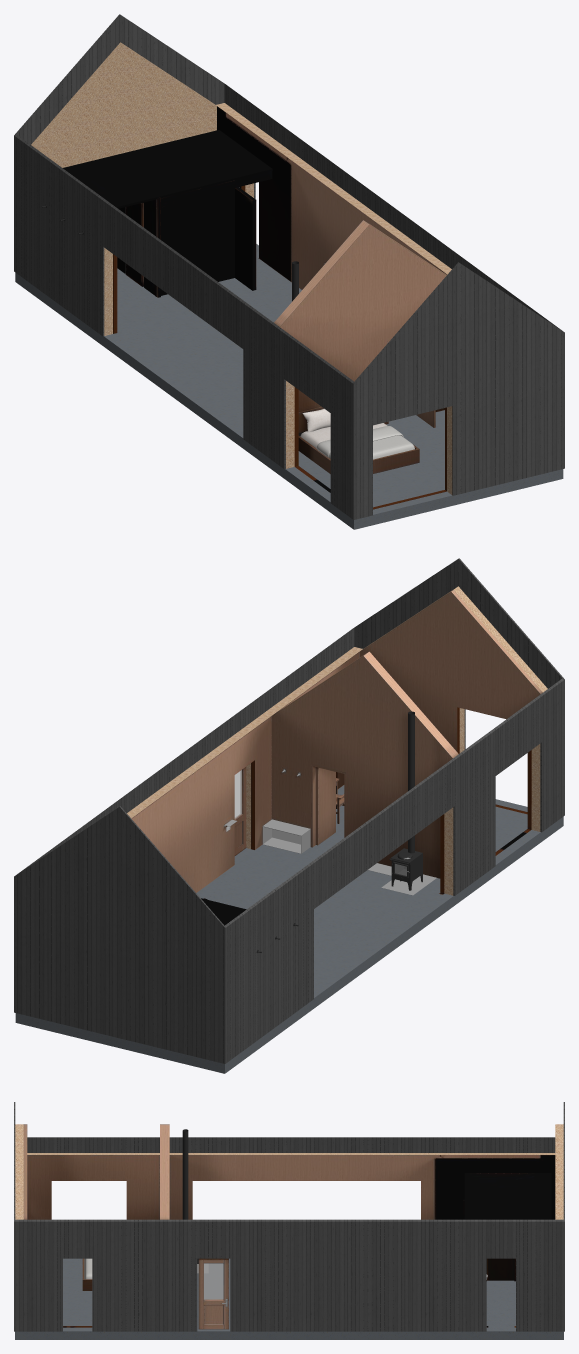
File: Base_1_Plus_Dark_no light.glb
The picture shows the model from 3 angles, top to bottom: view 1: azimuth 30°, elevation 25°; view 2: azimuth 150°, elevation 25°; view 3: azimuth 270°, elevation 25°; orthographic projection. The views are drawn at different scales.
Visible parts, largest first — view 1: Black wood _Main_Base1plus, Interior_Main_Wood_Base1plus_no light, Concrete_Base1plus.001, Isolation_Base1plus, White Fabrics_Base1plus, White fabric_Base1plus; view 2: Black wood _Main_Base1plus, Interior_Main_Wood_Base1plus_no light, Concrete_Base1plus.001, Isolation_Base1plus, Alumininum_Base1plus, Fireplace_Base1plus; view 3: Black wood _Main_Base1plus, Interior_Main_Wood_Base1plus_no light, Concrete_Base1plus.001, Isolation_Base1plus, Glass_Base1plus, Fireplace_Base1plus.
Boxes of the visible parts, <box> form: Black wood _Main_Base1plus: <box>14,14,564,519</box>; Interior_Main_Wood_Base1plus_no light: <box>63,106,447,509</box>; Concrete_Base1plus.001: <box>15,244,563,529</box>; Isolation_Base1plus: <box>31,42,452,494</box>; White Fabrics_Base1plus: <box>316,426,414,459</box>; White fabric_Base1plus: <box>300,408,387,448</box>; Black wood _Main_Base1plus: <box>14,558,564,1063</box>; Interior_Main_Wood_Base1plus_no light: <box>131,590,542,925</box>; Concrete_Base1plus.001: <box>15,785,563,1073</box>; Isolation_Base1plus: <box>127,586,547,895</box>; Alumininum_Base1plus: <box>224,769,436,895</box>; Fireplace_Base1plus: <box>389,711,422,890</box>; Black wood _Main_Base1plus: <box>14,1102,564,1331</box>; Interior_Main_Wood_Base1plus_no light: <box>23,1124,555,1329</box>; Concrete_Base1plus.001: <box>15,1258,563,1339</box>; Isolation_Base1plus: <box>15,1124,563,1219</box>; Glass_Base1plus: <box>204,1263,223,1299</box>; Fireplace_Base1plus: <box>182,1129,198,1263</box>.
Bounding box in the file's own units: 2.55 × 2.38 × 6.06.
12 materials, 7 textured.
